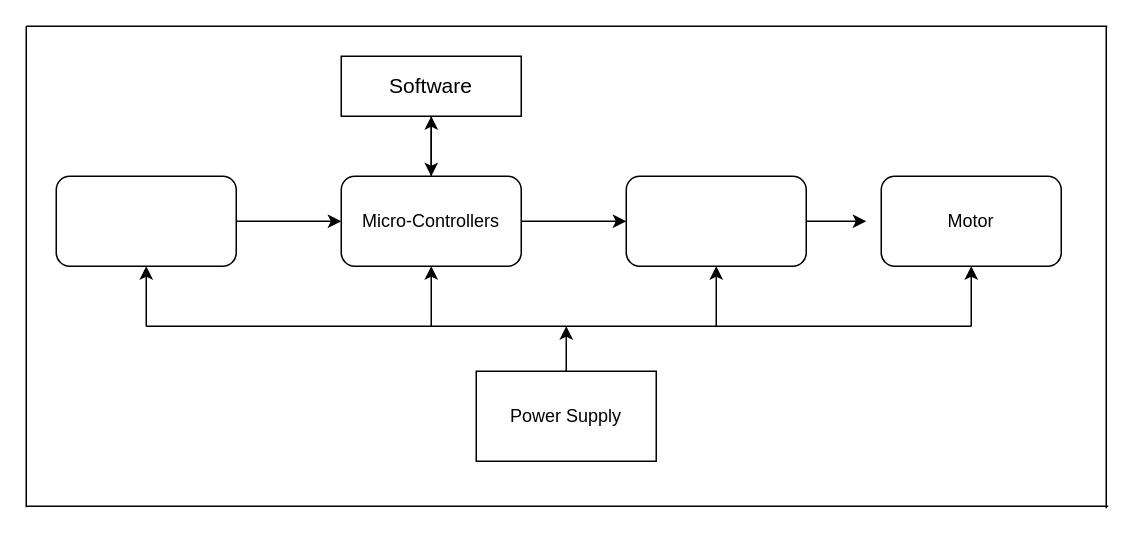
This 1137x537 diagram has some shape labels left out. Each missing label, with the centre of its shape:
Actuators: the point at 715,220
Sensors: the point at 145,220
